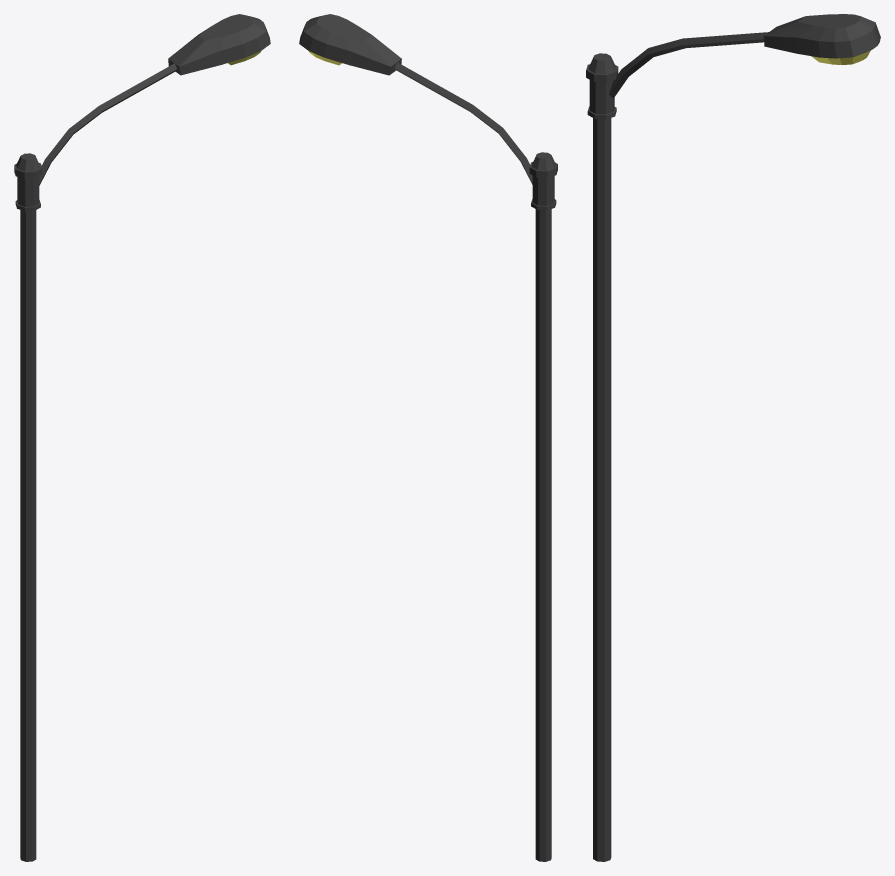
File: SM_streetlamp_01.fbx
3 views of the same model, side by side, from view 1: azimuth 30°, elevation 25°; view 2: azimuth 150°, elevation 25°; view 3: azimuth 330°, elevation 25° (orthographic). The views are drawn at different scales.
Parts seen in each view (by area): view 1: Cylinder023; view 2: Cylinder023; view 3: Cylinder023.
Part boxes in pixels (bbox=[...]): Cylinder023: bbox=[14, 14, 270, 861]; Cylinder023: bbox=[299, 14, 557, 861]; Cylinder023: bbox=[586, 14, 880, 861].
Bounding box in the file's own units: 72.06 × 216 × 14.52.
